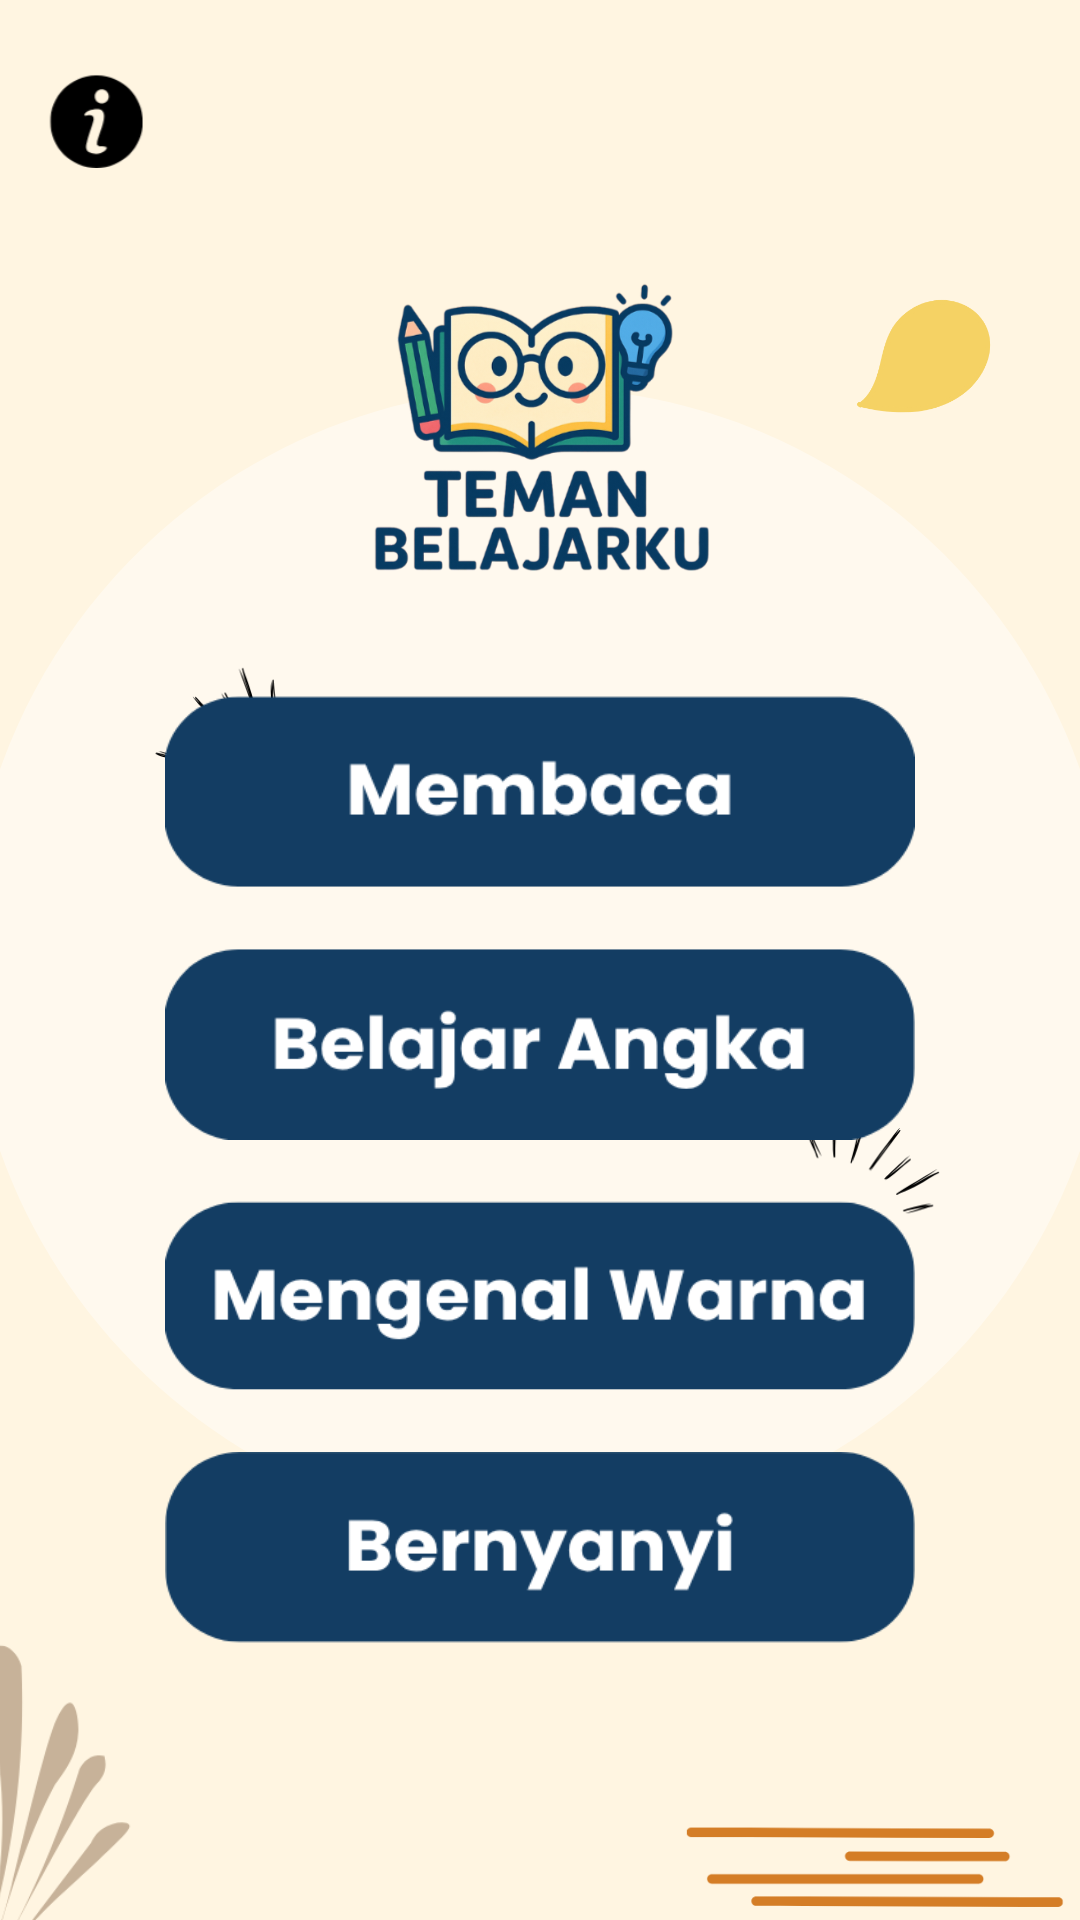

Locate icon controls on the screen. Image size 1080 × 1920, boxes as (x1, y1, x2, y2).
Informasi Aplikasi: (49, 75, 143, 168)
